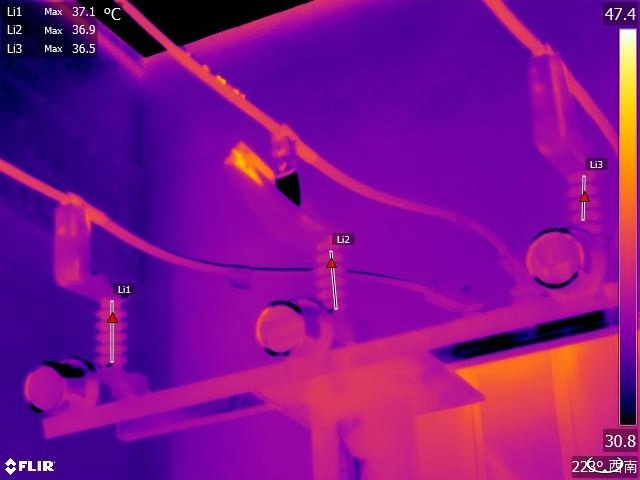tube: (92, 296, 131, 370), (562, 171, 603, 239), (312, 246, 347, 309)
